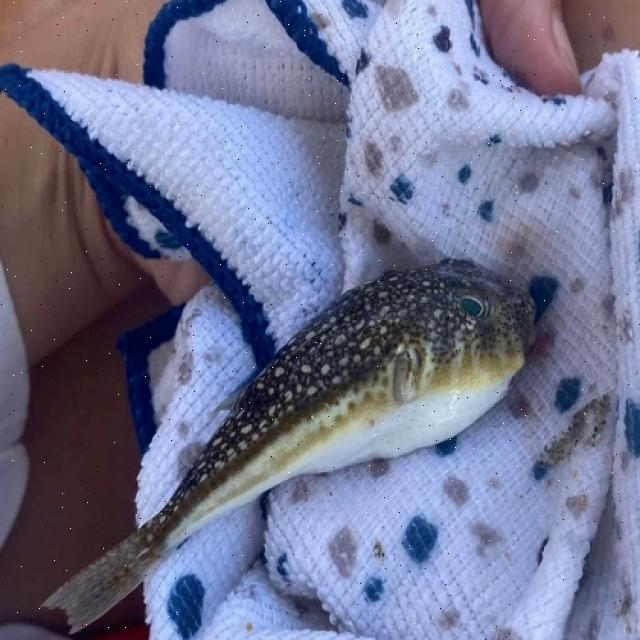Balik: (45, 260, 535, 632)
